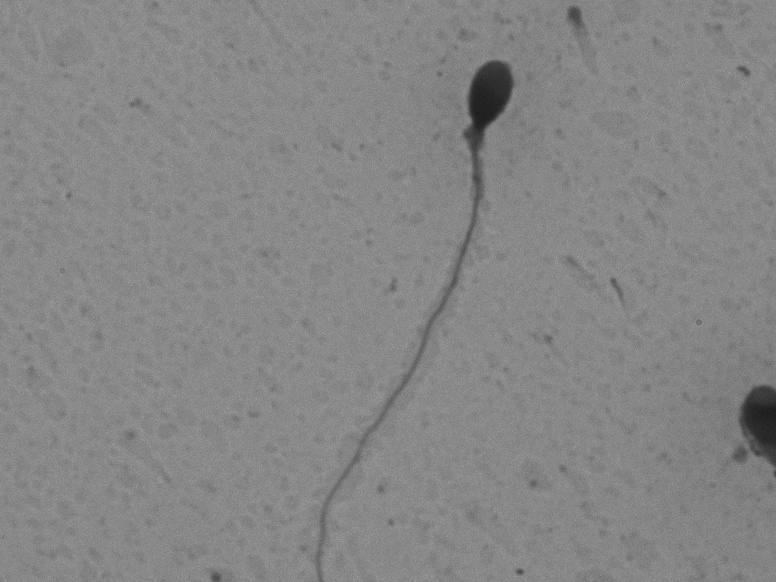Abnormal: (298, 30, 528, 576)
